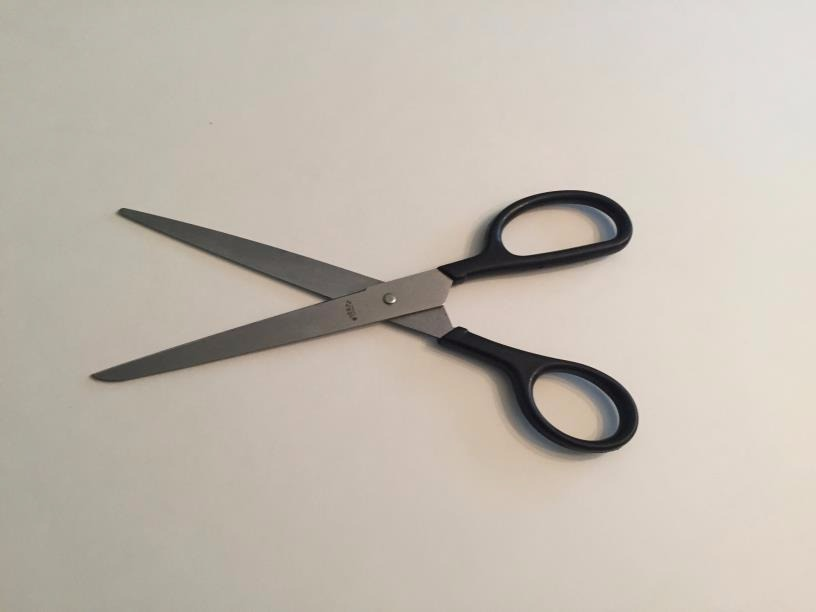scissor: (60, 143, 680, 484)
